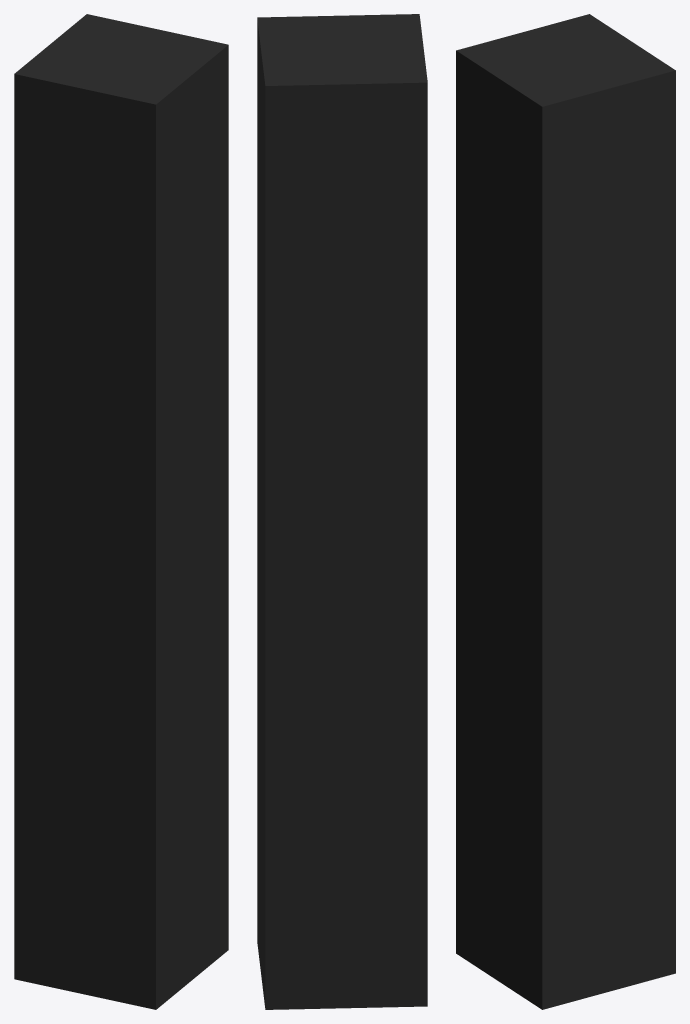
File: LightRoseWoodMechSmallElevator1ElevatorWire.fbx
The picture shows the model from 3 angles, left to right: view 1: azimuth 30°, elevation 25°; view 2: azimuth 150°, elevation 25°; view 3: azimuth 270°, elevation 25°; orthographic projection. The views are drawn at different scales.
Parts seen in each view (by area): view 1: ElevatorWire; view 2: ElevatorWire; view 3: ElevatorWire.
Part boxes in pixels (x1,y1,x2,y2): ElevatorWire: (14,14,228,1009); ElevatorWire: (257,14,427,1009); ElevatorWire: (456,14,675,1009).
Size of the model in its own units: 37.21 by 169 by 37.21.
